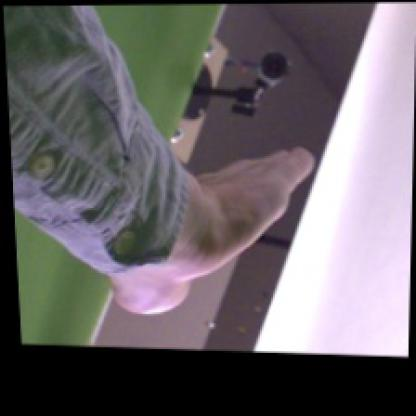Hand: (113, 148, 316, 316)
